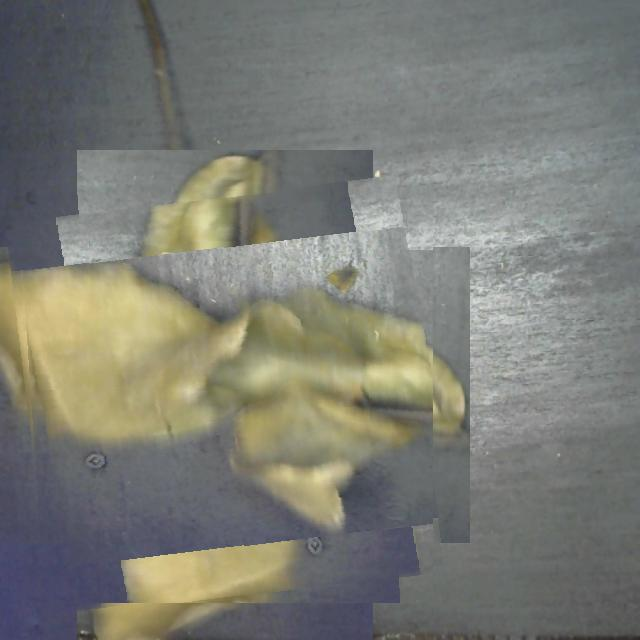biodegradable: (17, 187, 433, 603)
